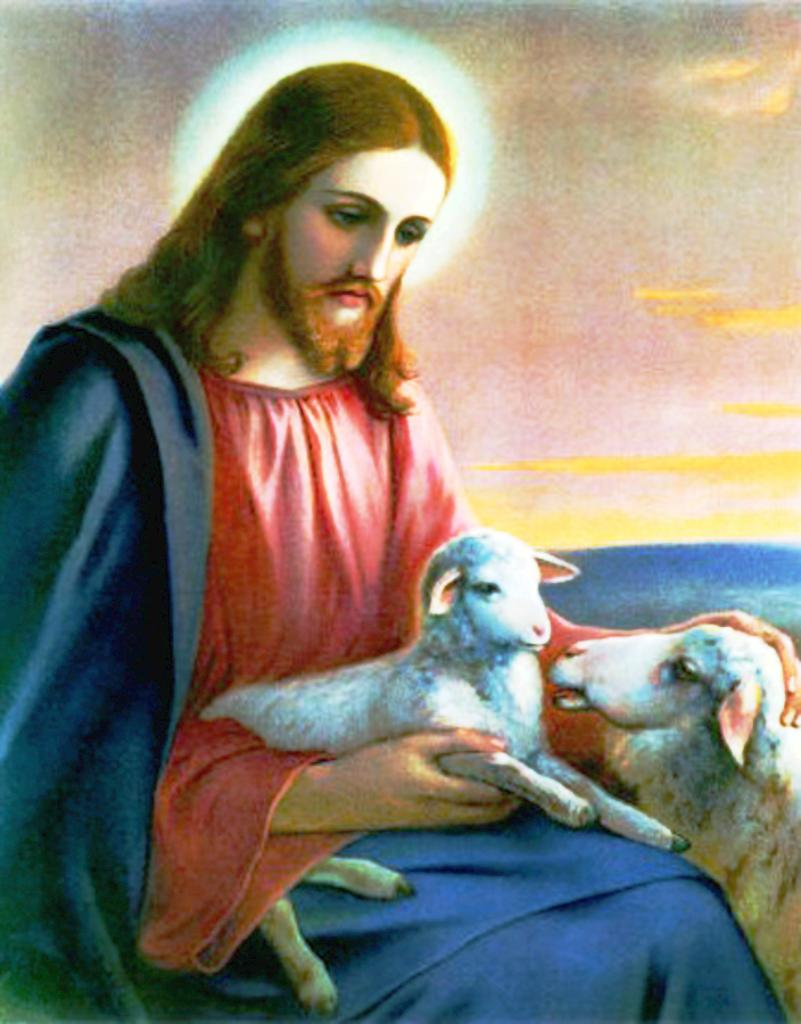Sheep: (188, 518, 694, 1016), (528, 626, 799, 1022)
